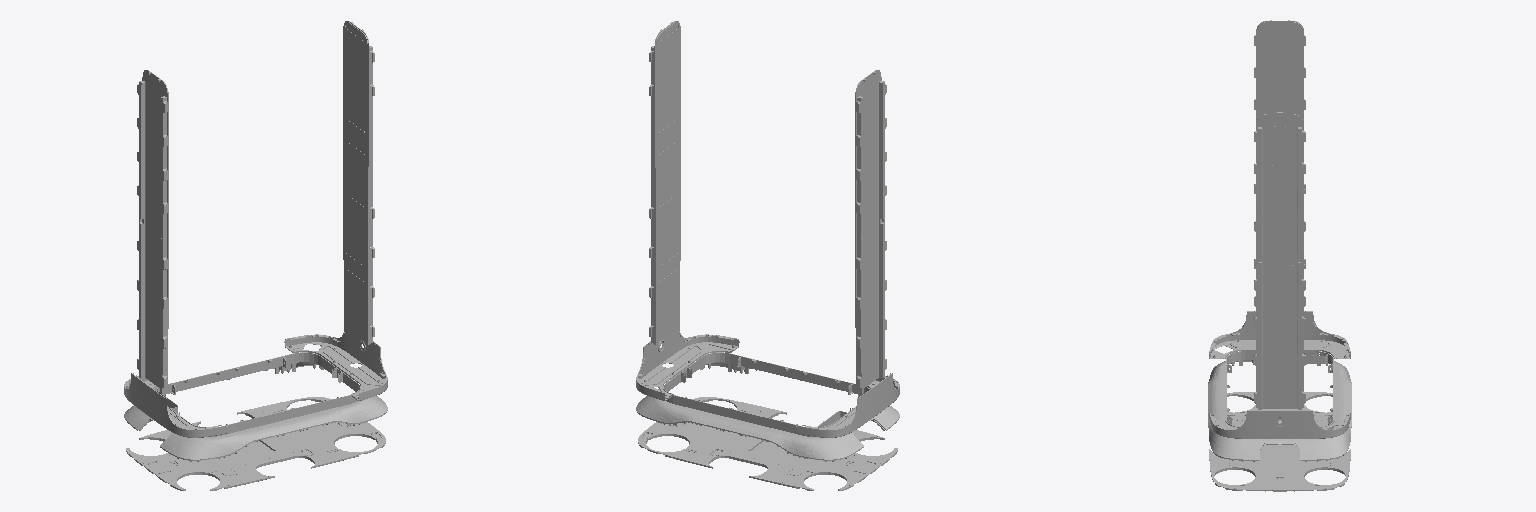
URDF robot description (buddi_v1_1-urdf):
<?xml version="1.0" encoding="utf-8"?>
<!-- This URDF was automatically created by SolidWorks to URDF Exporter! Originally created by Stephen Brawner (brawner@gmail.com) 
     Commit Version: 1.6.0-4-g7f85cfe  Build Version: 1.6.7995.38578
     For more information, please see http://wiki.ros.org/sw_urdf_exporter -->
<robot
  name="buddi_v1_1-urdf">
  <link
    name="base_link">
    <inertial>
      <origin
        xyz="0.000277593948839312 0.380164556703058 0.00328190175034589"
        rpy="0 0 0" />
      <mass
        value="14.0919953518006" />
      <inertia
        ixx="0.708984666741854"
        ixy="-6.07928676296931E-05"
        ixz="6.68228228905583E-06"
        iyy="0.314489436628463"
        iyz="-3.05376169064543E-05"
        izz="0.647006742135036" />
    </inertial>
    <visual>
      <origin
        xyz="0 0 0"
        rpy="0 0 0" />
      <geometry>
        <mesh
          filename="package://buddi_v1_1-urdf/meshes/base_link.STL" />
      </geometry>
      <material
        name="">
        <color
          rgba="0.752941176470588 0.752941176470588 0.752941176470588 1" />
      </material>
    </visual>
    <collision>
      <origin
        xyz="0 0 0"
        rpy="0 0 0" />
      <geometry>
        <mesh
          filename="package://buddi_v1_1-urdf/meshes/base_link.STL" />
      </geometry>
    </collision>
  </link>
</robot>

--- Facts derived from the render (not from the file) ---
Views: 3 orthographic renders of the robot side by side, from view 1: azimuth 30°, elevation 25°; view 2: azimuth 150°, elevation 25°; view 3: azimuth 270°, elevation 25°.
Robot: buddi_v1_1-urdf — 1 links, 0 joints (none); root link base_link; default pose: all joints at 0.
Visible links, largest first — view 1: base_link; view 2: base_link; view 3: base_link.
Boxes of the visible links, left/top/right/bottom form: base_link: left=124, top=21, right=387, bottom=490; base_link: left=636, top=21, right=899, bottom=490; base_link: left=1208, top=20, right=1351, bottom=491.
Size in the robot's own frame: 0.9 by 0.55 by 1.58 metres.
1 mesh visuals loaded from 1 distinct referenced files (1 binary STL).
